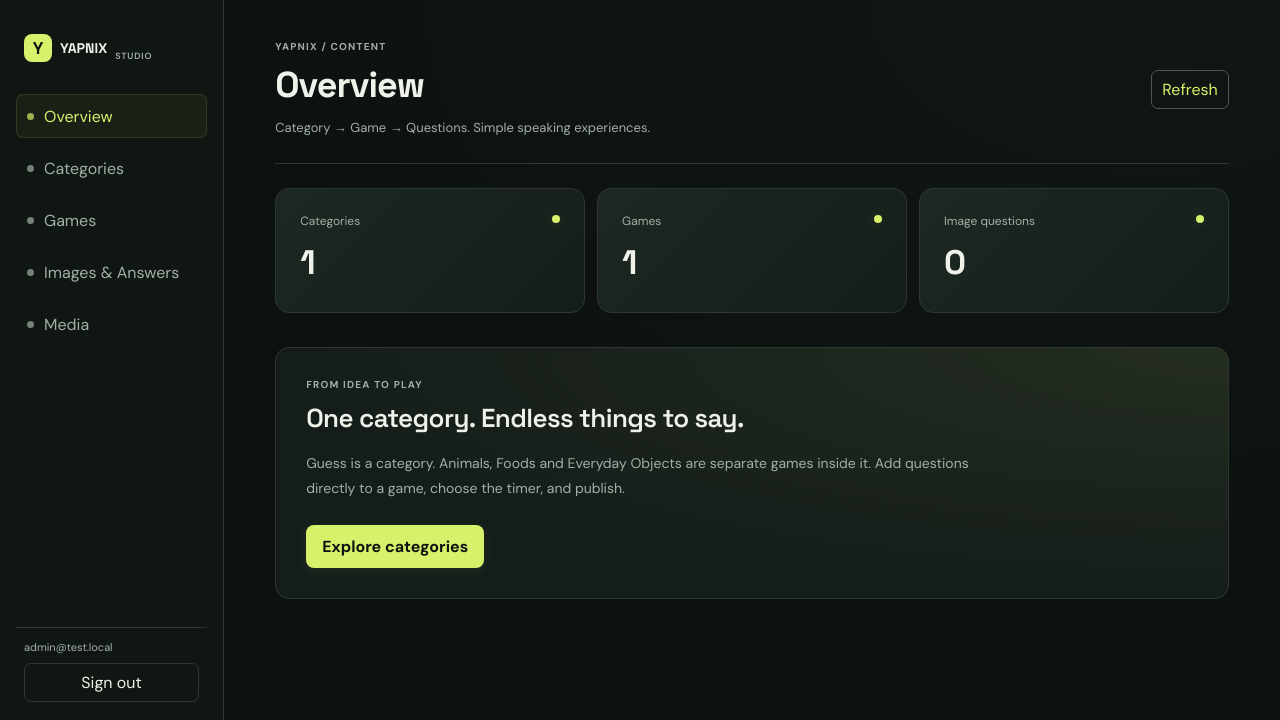
Scenario: category and standalone game workflows › keeps incomplete games unpublished and requires name confirmation before deleting
Click the button "Games" at (112, 220), box [16, 198, 207, 242]
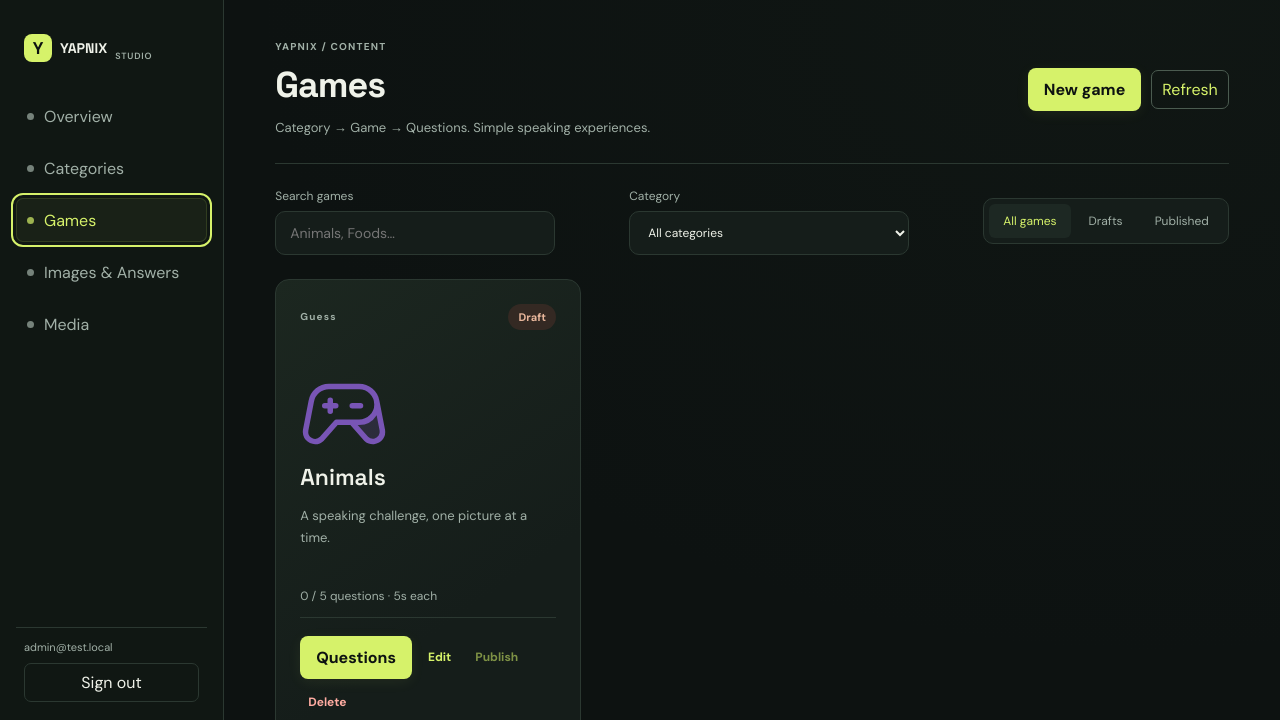
Now the heading "Animals" is shown, box [300, 462, 386, 492]
Now the button "Publish" is disabled, box [467, 642, 526, 672]
Click the button "Delete" at (327, 702), box [300, 687, 354, 717]
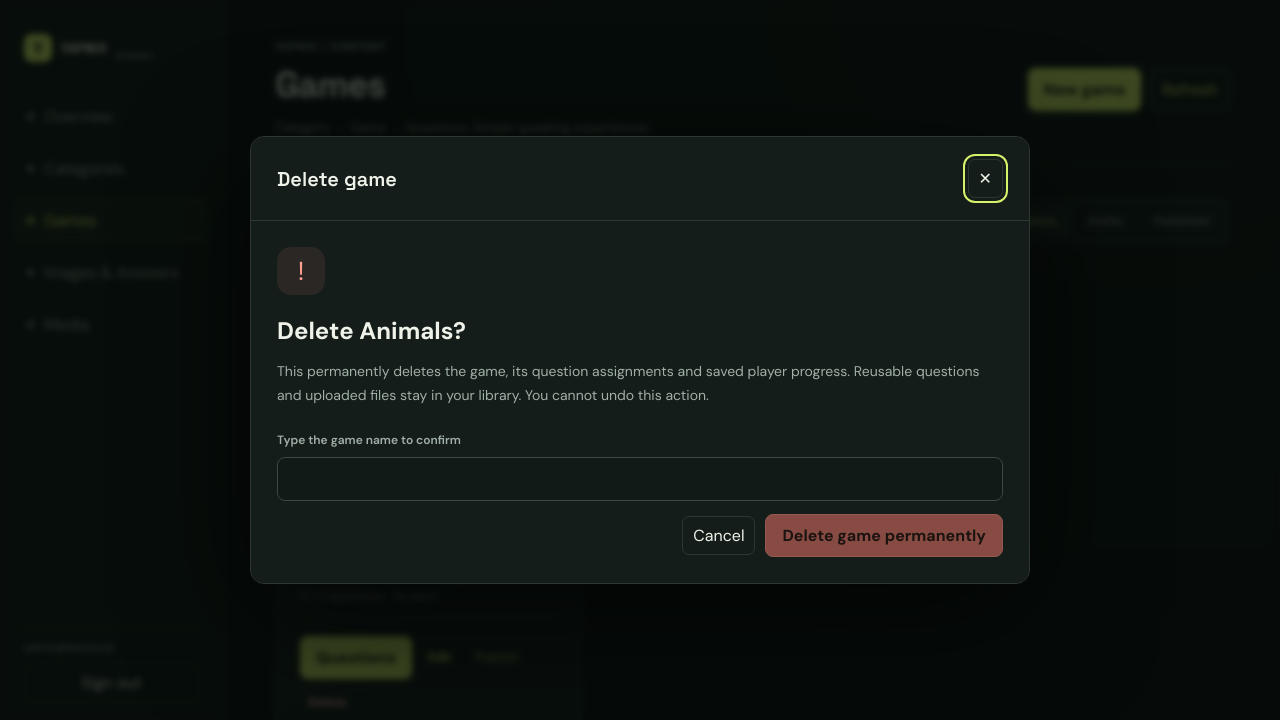
Now the button "Delete game permanently" is disabled, box [766, 514, 1003, 557]
Type "Animals" into the field labelled "Type the game name to confirm" at (640, 479), box [277, 457, 1003, 501]
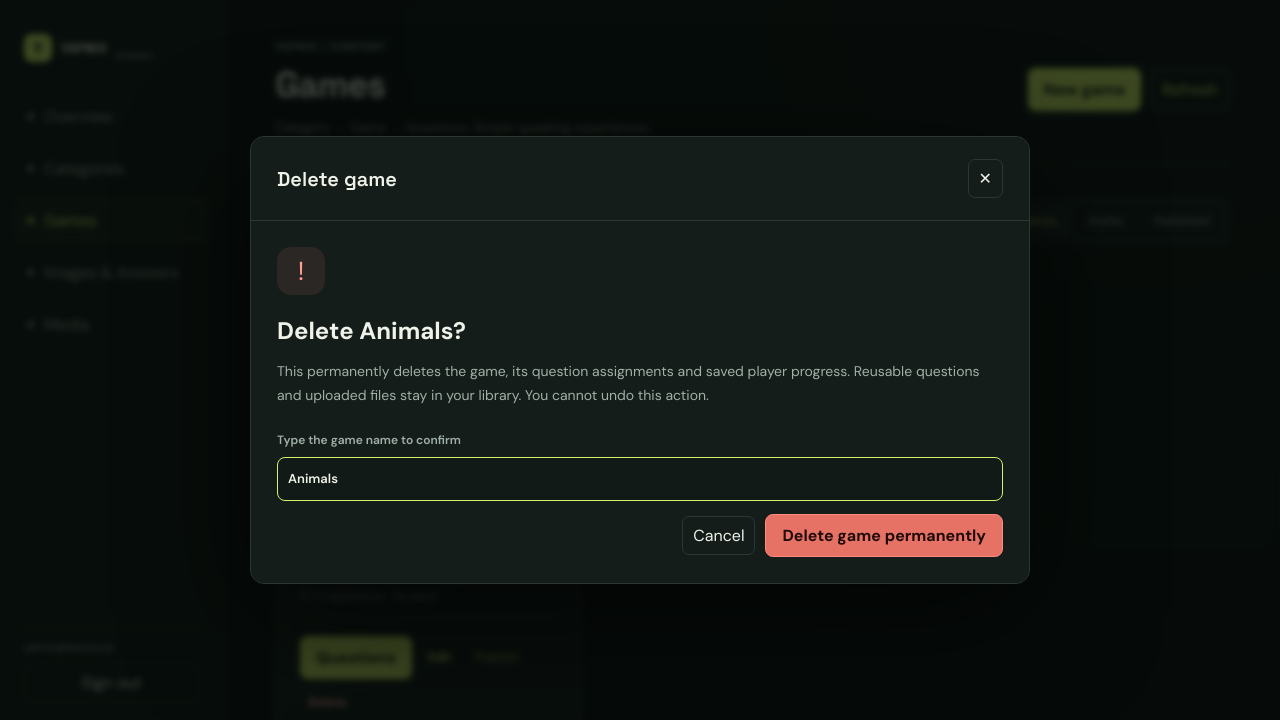
Click the button "Delete game permanently" at (884, 535), box [766, 514, 1003, 557]
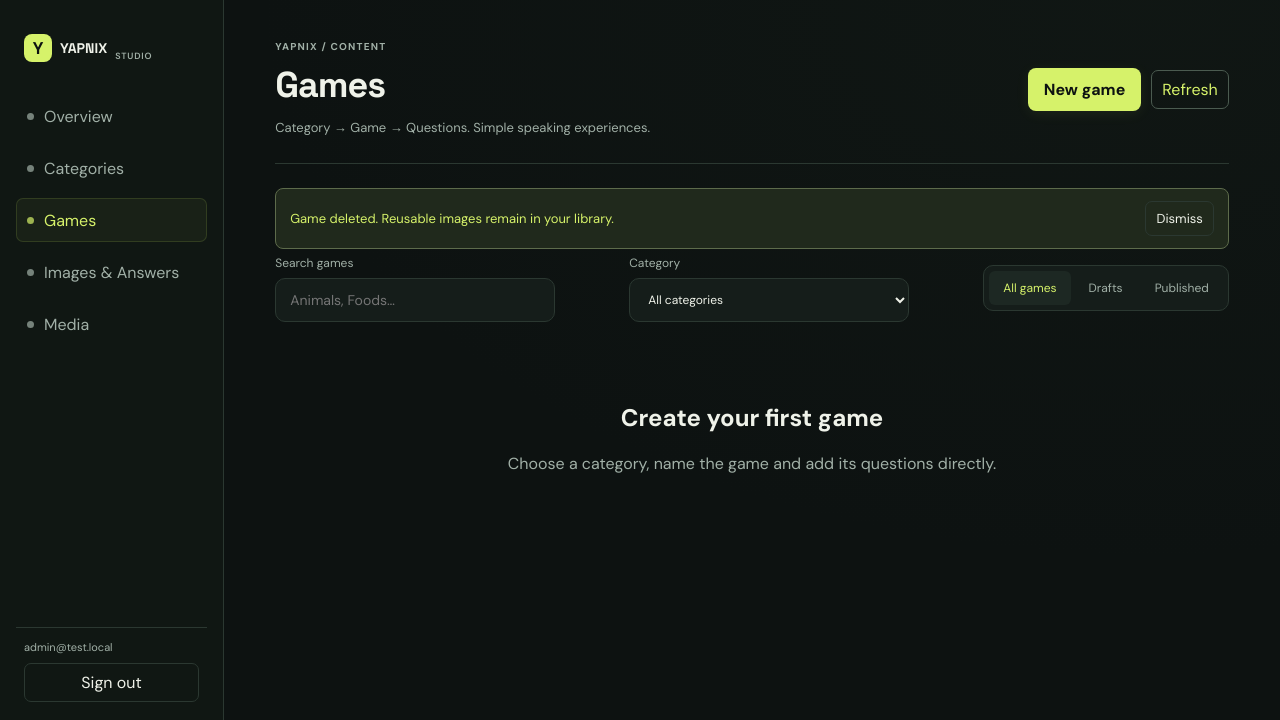
Now the dialog is gone
